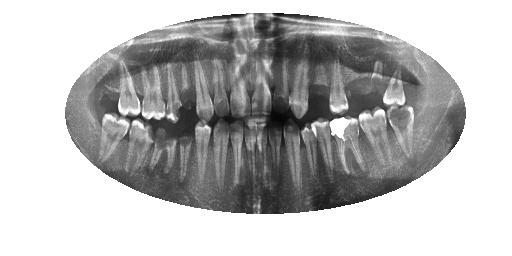Cavity: (388, 103, 416, 157), (150, 125, 179, 174), (127, 119, 153, 173), (272, 49, 291, 118), (175, 122, 195, 183), (165, 65, 184, 122), (181, 61, 197, 122), (369, 58, 386, 96), (314, 62, 329, 94)
Fillings: (328, 116, 367, 174)
